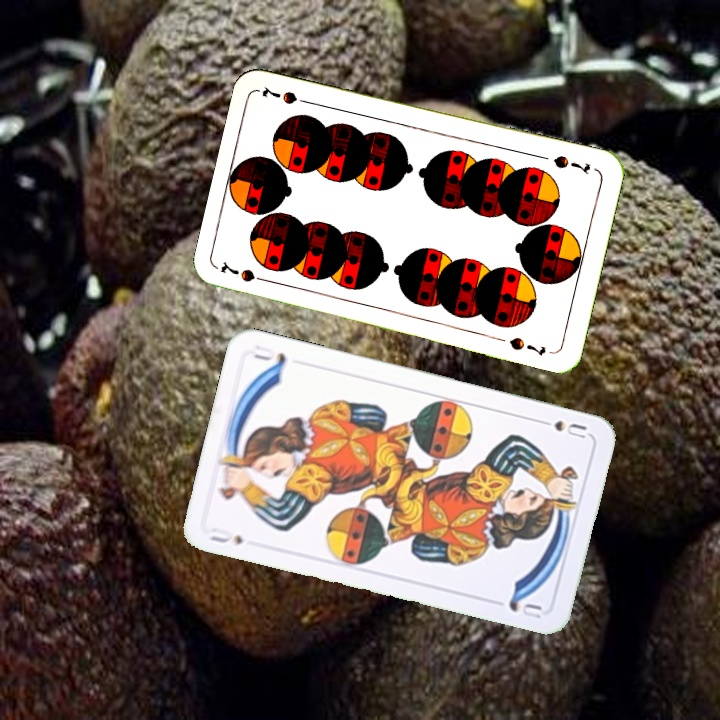S7: (216, 258, 274, 286), (549, 151, 593, 178)
SU: (532, 414, 589, 441), (206, 523, 246, 547)
